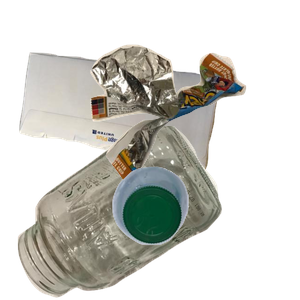glass: (15, 126, 229, 300)
paper: (17, 50, 231, 230)
plastic: (110, 164, 300, 300)
trash: (88, 42, 300, 219)
